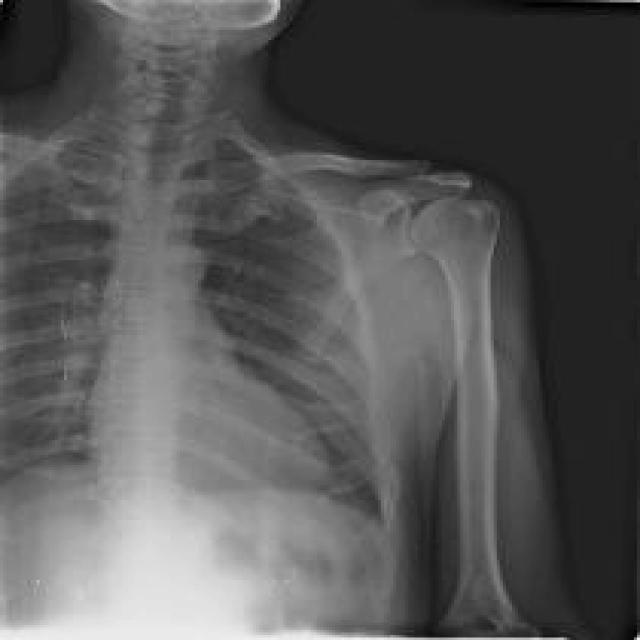normal: (5, 19, 395, 632), (280, 154, 518, 632), (99, 0, 280, 29)
